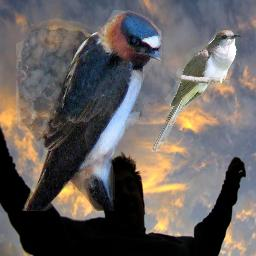Cuckoo: (150, 29, 241, 153)
Swallow: (16, 10, 162, 211)
